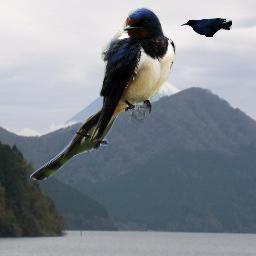Crow: (181, 18, 232, 37)
Cuckoo: (30, 103, 128, 180)
Swallow: (78, 7, 176, 145)
